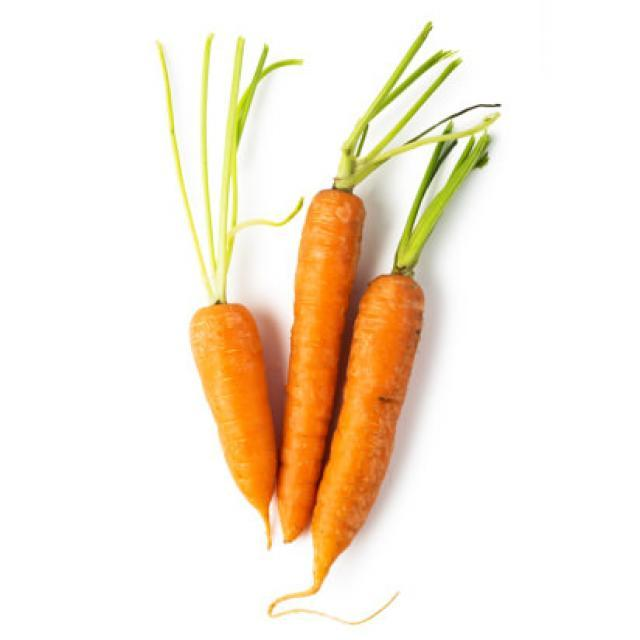Carrot: (307, 270, 427, 596), (281, 187, 364, 556), (185, 303, 284, 544)
